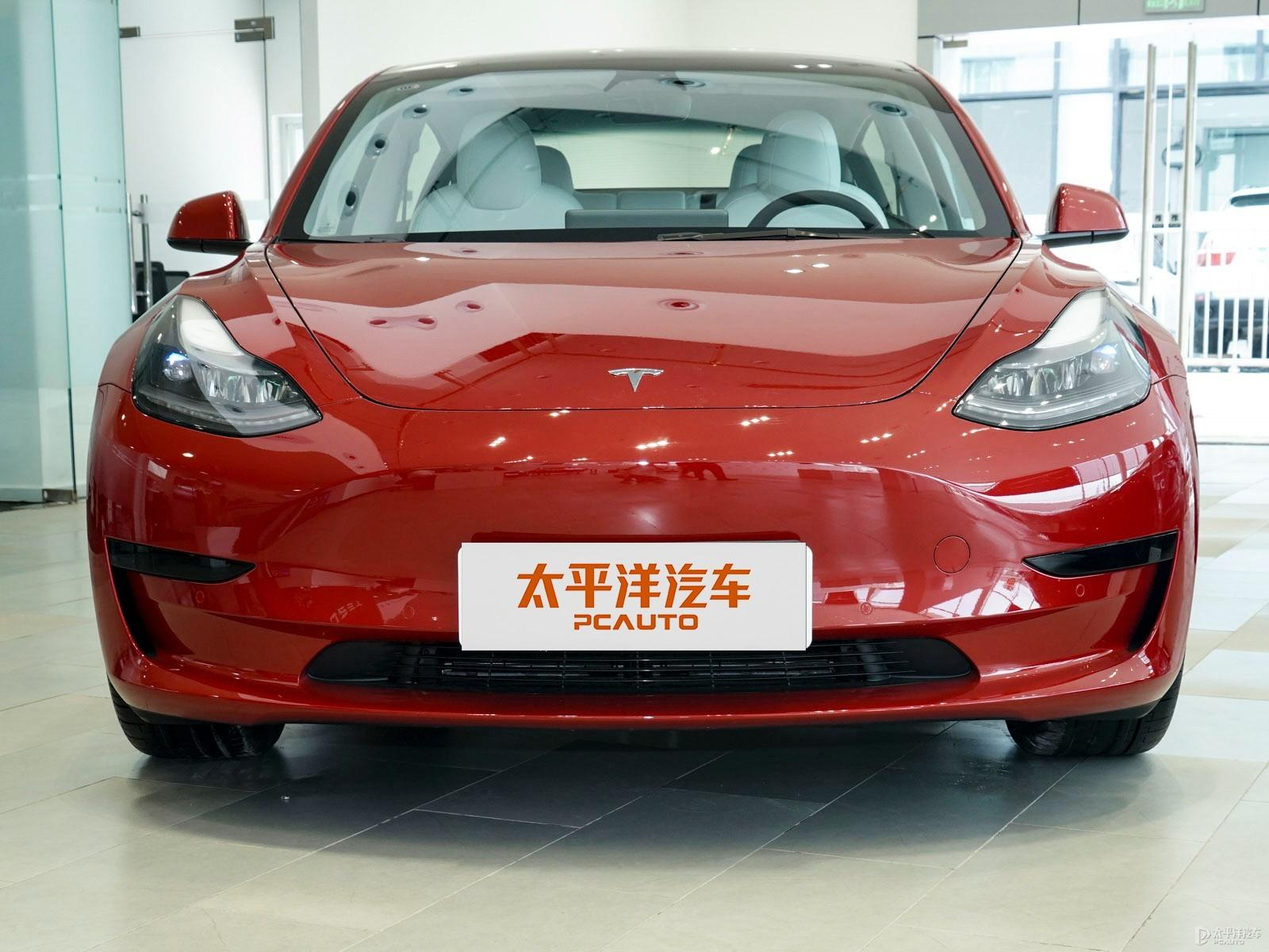Tesla: (606, 367, 663, 396)
